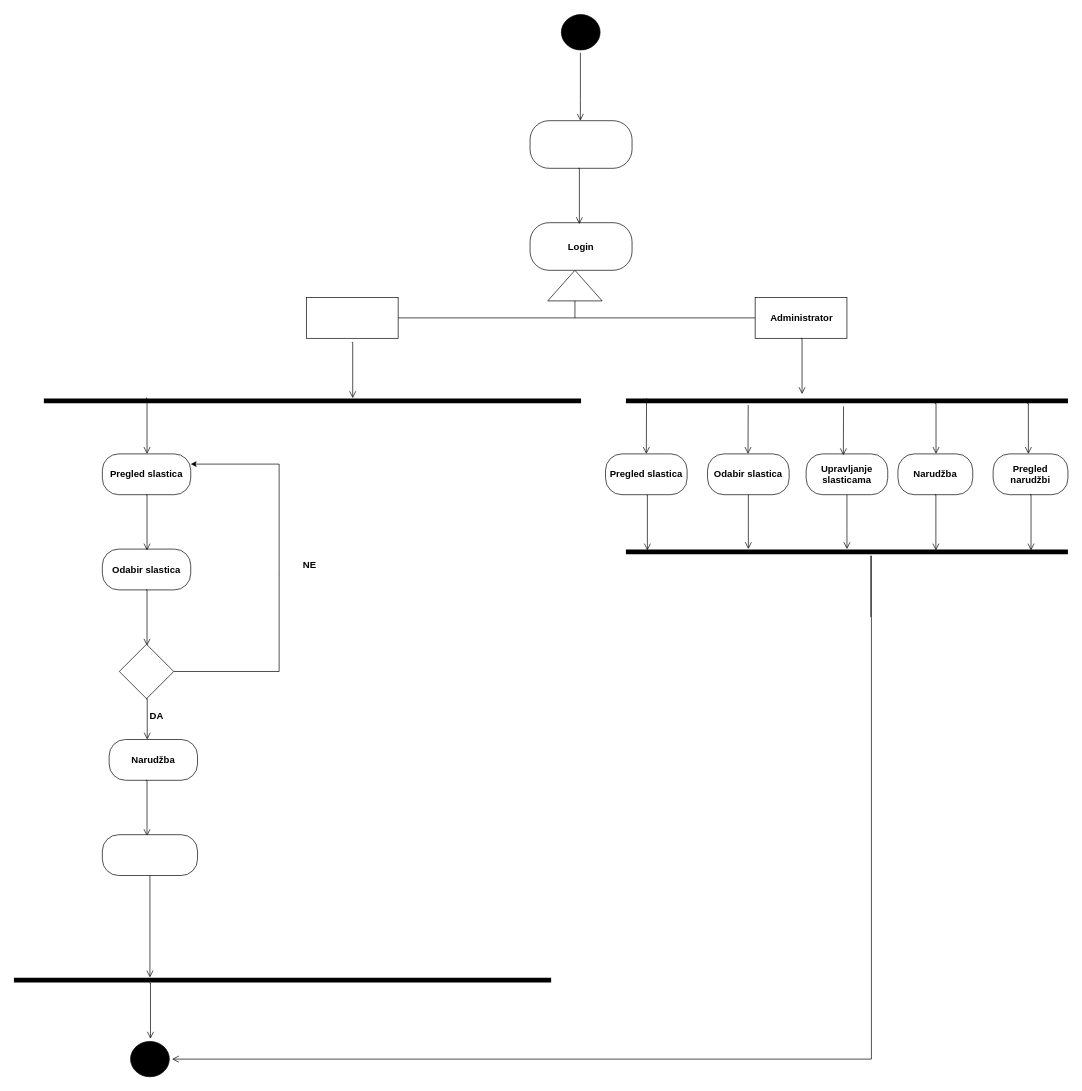
This 1082x1091 diagram has some shape labels left out. Here are the shapes that lost their labels. From the top down, the centre of each, then its label:
At point 580,144: "Početna stranica".
At point 352,317: "Korisnik".
At point 150,855: "Plaćanje".
